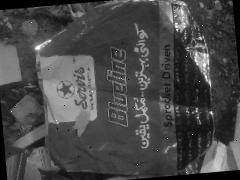general: (28, 0, 220, 179), (4, 141, 31, 180)
